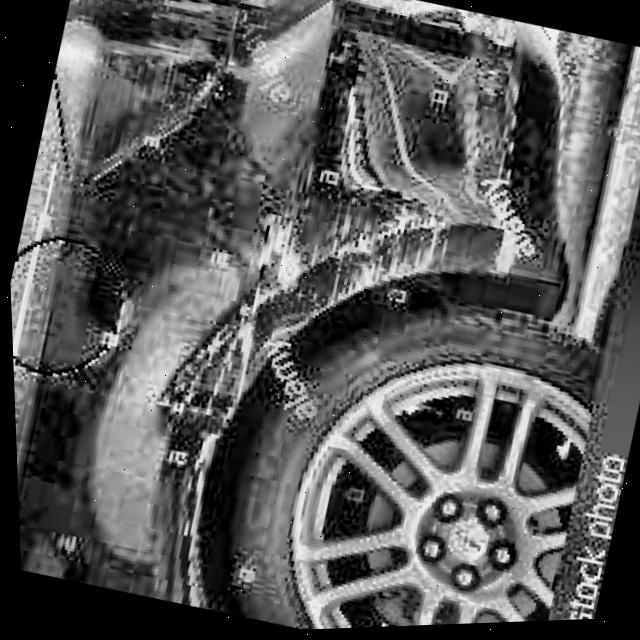bumper_scratch: (150, 189, 339, 455), (343, 175, 466, 315)
